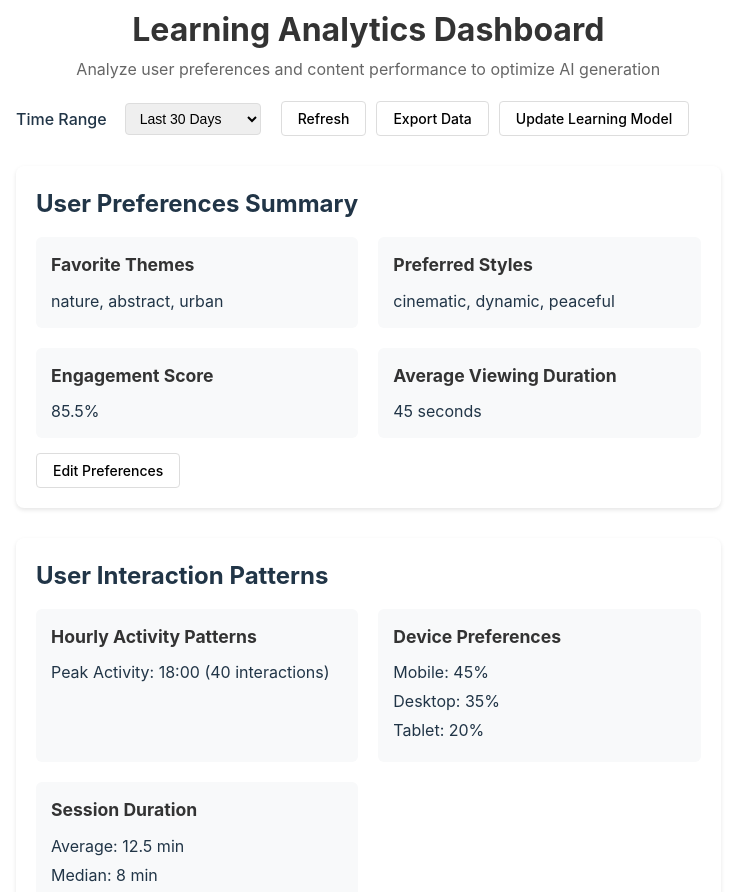
Test case: LearningAnalytics Component › Preference Management › should allow editing theme preferences
Click the button "Edit Preferences" at (108,470), box left=36, top=453, right=180, bottom=488
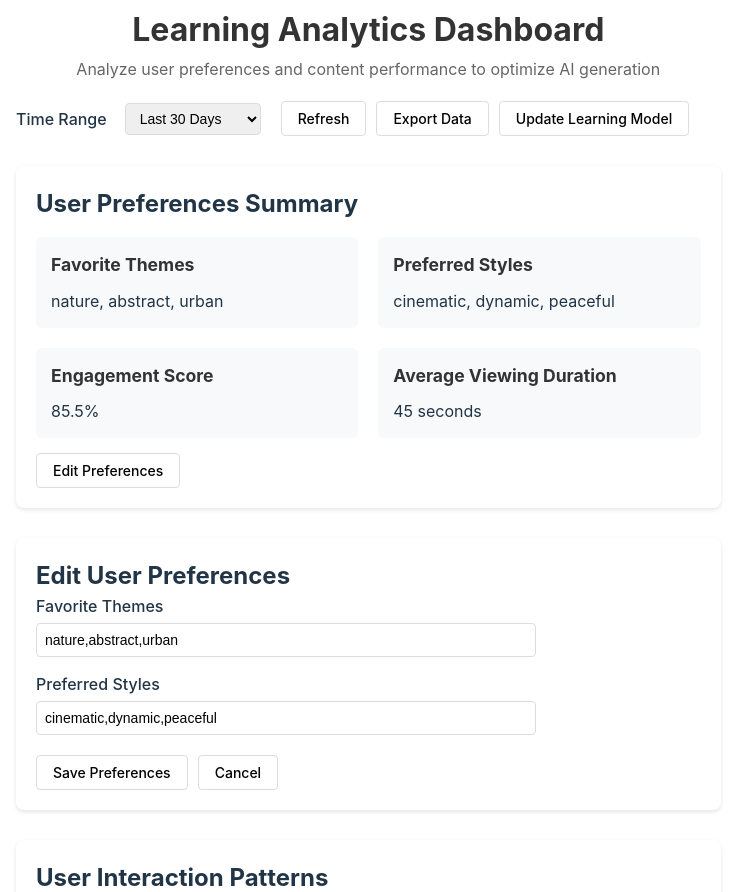
Check: the heading "Edit User Preferences" is shown, box left=36, top=561, right=290, bottom=590
Check: the field labelled "Favorite Themes" is shown, box left=36, top=623, right=536, bottom=657
